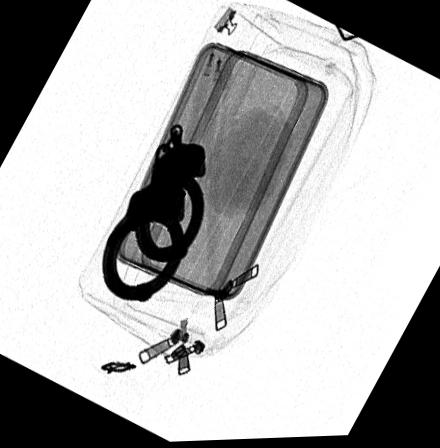HandCuffs: (103, 124, 207, 303)
